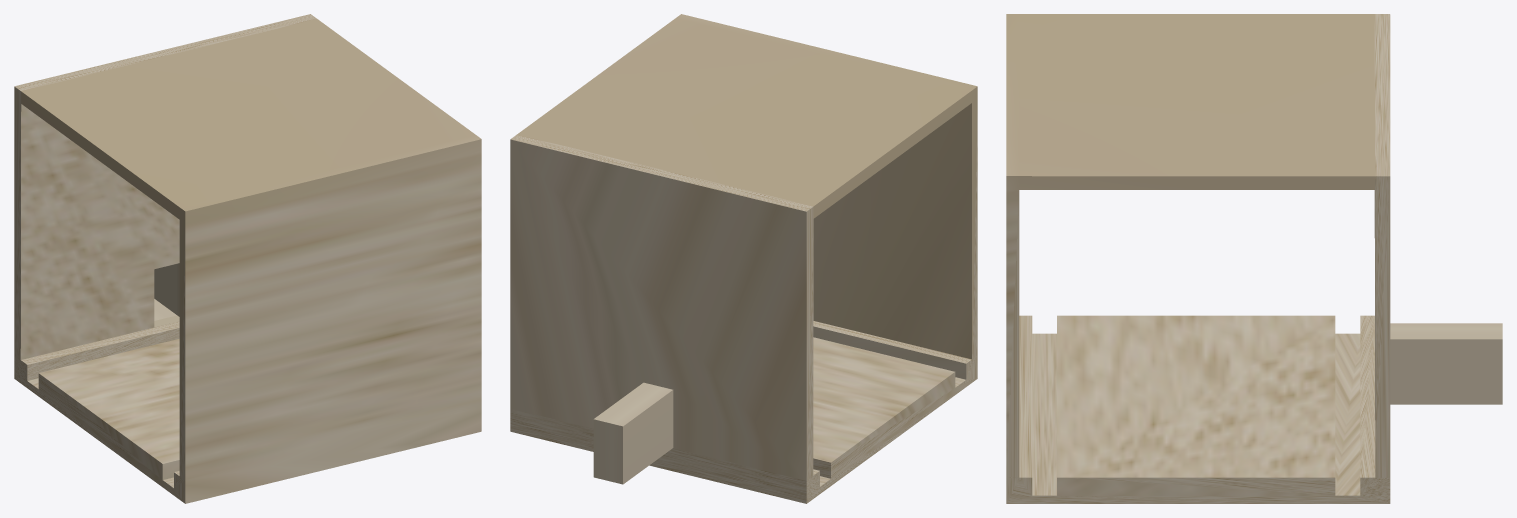
The model's file is WallBox.gltf.
The picture shows the model from 3 angles, left to right: view 1: azimuth 30°, elevation 25°; view 2: azimuth 150°, elevation 25°; view 3: azimuth 270°, elevation 25°; orthographic projection. The views are drawn at different scales.
Visible parts, largest first — view 1: Cube.001; view 2: Cube.001; view 3: Cube.001.
Boxes of the visible parts, left/top/right/bottom form: Cube.001: left=14, top=14, right=481, bottom=503; Cube.001: left=510, top=14, right=977, bottom=503; Cube.001: left=1006, top=14, right=1502, bottom=503.
Bounding box in the file's own units: 8 × 7.55 × 10.35.
Materials: 1 (1 with a texture image).
